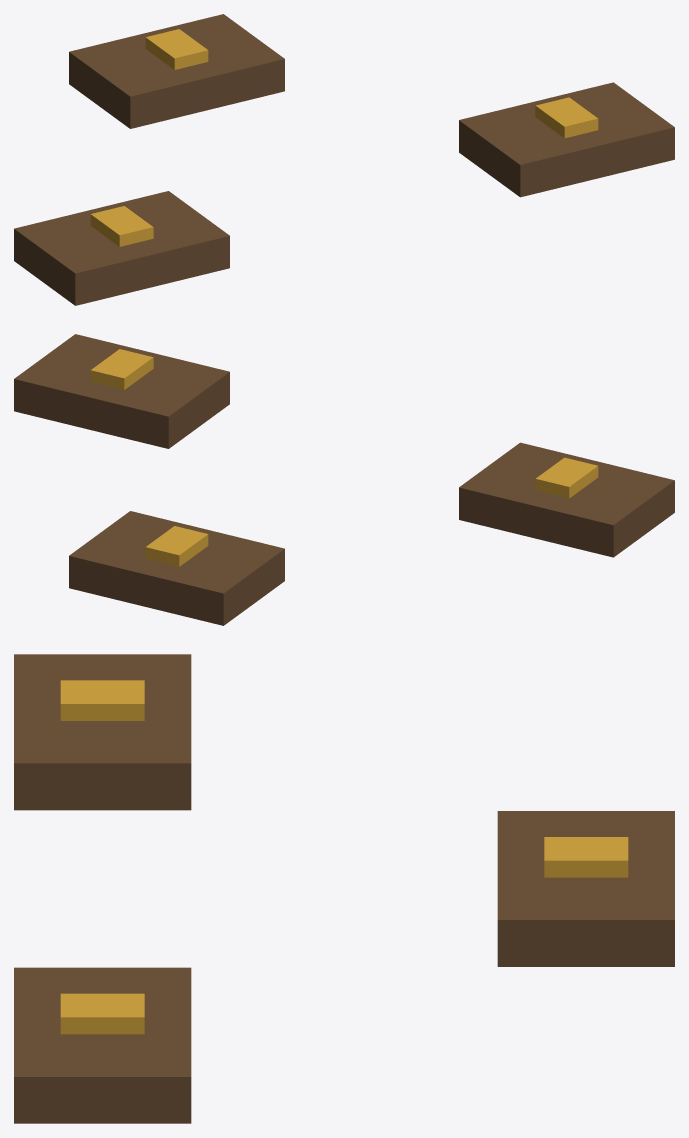
The model's file is crop_wheat_seed.glb.
The picture shows the model from 3 angles, top to bottom: view 1: azimuth 30°, elevation 25°; view 2: azimuth 150°, elevation 25°; view 3: azimuth 270°, elevation 25°; orthographic projection. The views are drawn at different scales.
Parts seen in each view (by area): view 1: body__soil, body__hay; view 2: body__soil, body__hay; view 3: body__soil, body__hay.
Part boxes in pixels (x1,y1,x2,y2): body__soil: (14, 14, 674, 305); body__hay: (90, 29, 598, 246); body__soil: (14, 334, 674, 625); body__hay: (90, 349, 598, 566); body__soil: (14, 654, 674, 1123); body__hay: (60, 680, 628, 1034).
Bounding box in the file's own units: 0.62 × 0.0435 × 0.41.
